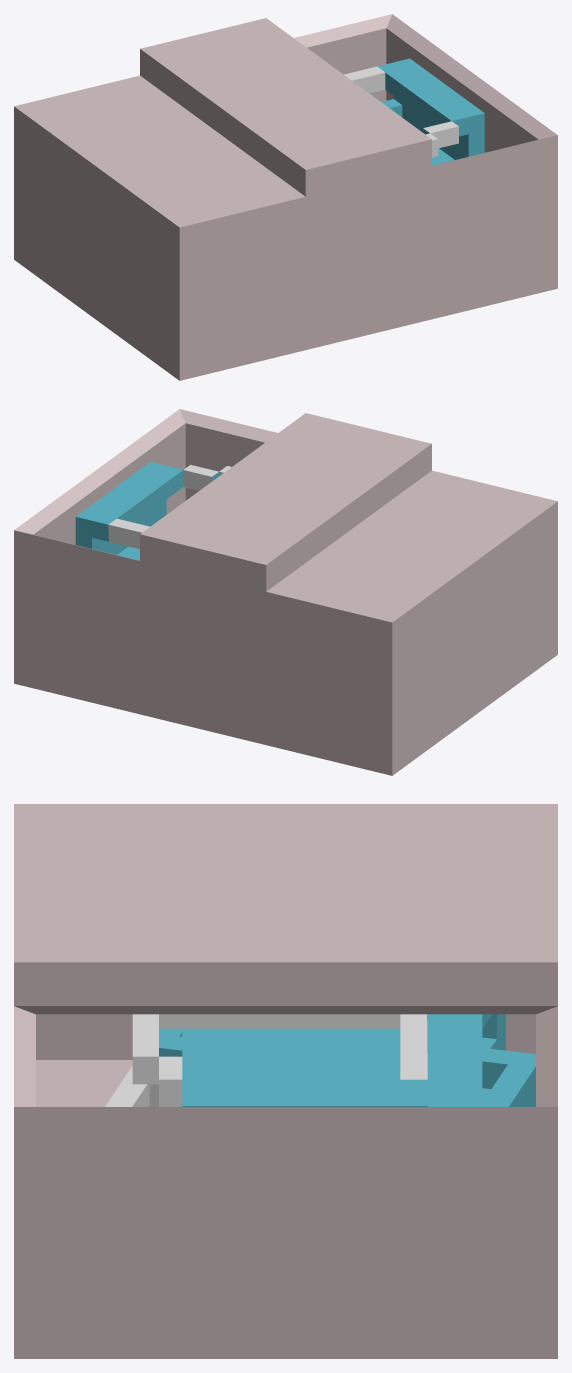
File: Mask_Box.fbx
3 renders of one model, top to bottom at view 1: azimuth 30°, elevation 25°; view 2: azimuth 150°, elevation 25°; view 3: azimuth 270°, elevation 25°, orthographic. The views are drawn at different scales.
Parts seen in each view (by area): view 1: Mask_box; view 2: Mask_box; view 3: Mask_box.
Boxes of the visible parts, <box> form: Mask_box: <box>14,14,557,380</box>; Mask_box: <box>14,409,557,775</box>; Mask_box: <box>14,804,557,1358</box>.
Bounding box in the file's own units: 1.32 × 0.5998 × 1.
